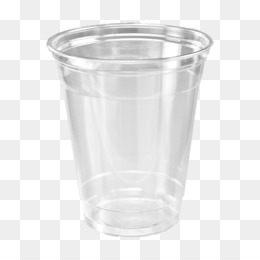plastic_glass: (42, 19, 222, 246)
